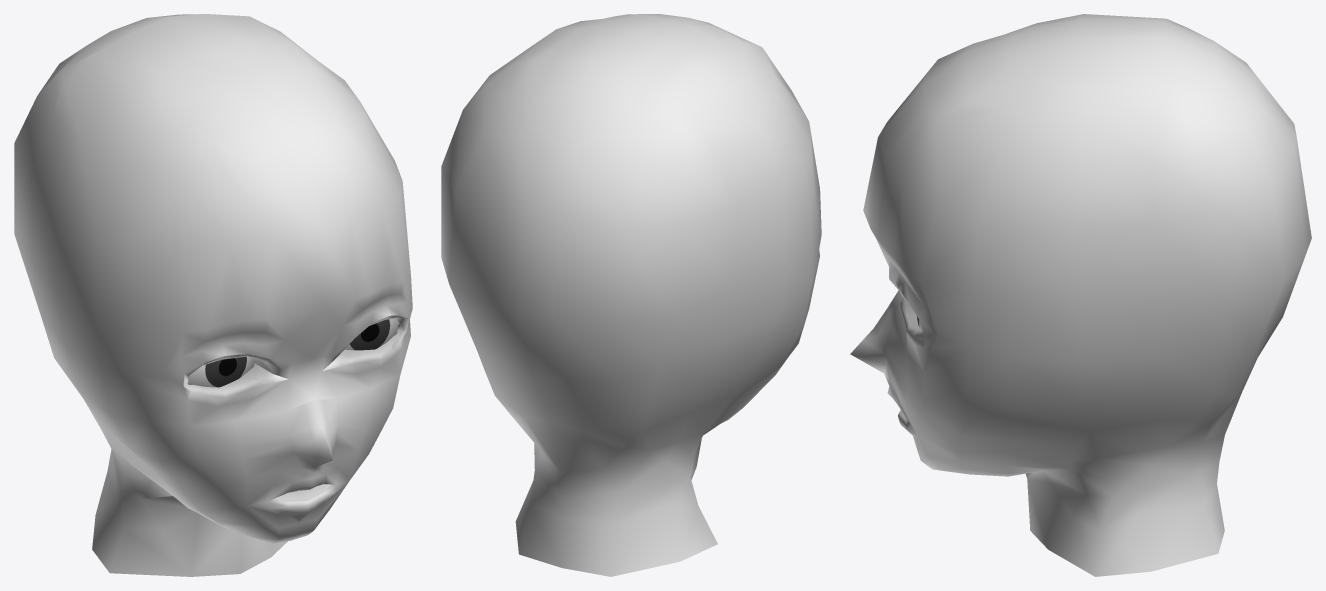
File: face_test_weight.glb
3 renders of one model, left to right at view 1: azimuth 30°, elevation 25°; view 2: azimuth 150°, elevation 25°; view 3: azimuth 270°, elevation 25°, orthographic. The views are drawn at different scales.
Visible parts, largest first — view 1: head; view 2: head; view 3: head.
Part boxes in pixels (bbox=[...]): head: bbox=[14, 14, 412, 576]; head: bbox=[441, 14, 821, 576]; head: bbox=[850, 14, 1311, 576].
Bounding box in the file's own units: 0.2013 × 0.3063 × 0.2596.
Materials: 2 (2 with a texture image).
